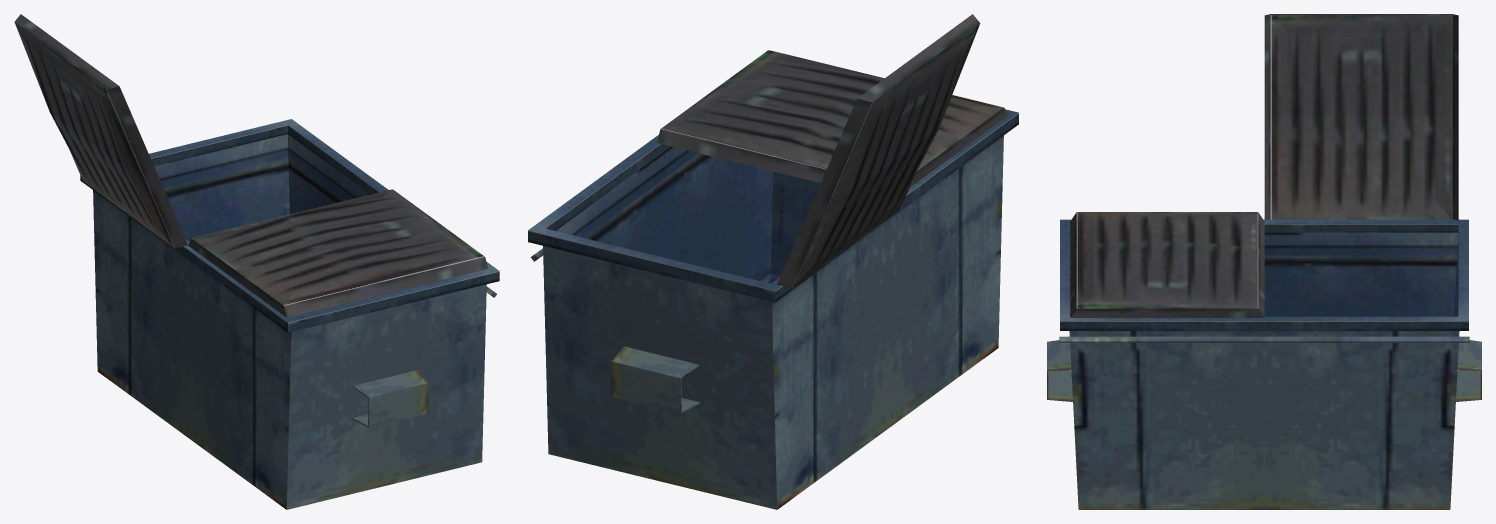
Rendered from Urban_DumpsterEmptyLidOpenBlue_Model.fbx.
3 views of the same model, side by side, from view 1: azimuth 30°, elevation 25°; view 2: azimuth 150°, elevation 25°; view 3: azimuth 270°, elevation 25° (orthographic). The views are drawn at different scales.
Parts seen in each view (by area): view 1: Urban_DumpsterEmptyLidOpenBlue_Mesh; view 2: Urban_DumpsterEmptyLidOpenBlue_Mesh; view 3: Urban_DumpsterEmptyLidOpenBlue_Mesh.
Part boxes in pixels (box(x1,y1,x2,y2)): Urban_DumpsterEmptyLidOpenBlue_Mesh: box(14, 14, 499, 509); Urban_DumpsterEmptyLidOpenBlue_Mesh: box(528, 14, 1018, 509); Urban_DumpsterEmptyLidOpenBlue_Mesh: box(1047, 14, 1481, 509).
Bounding box in the file's own units: 2.74 × 3.41 × 3.67.
